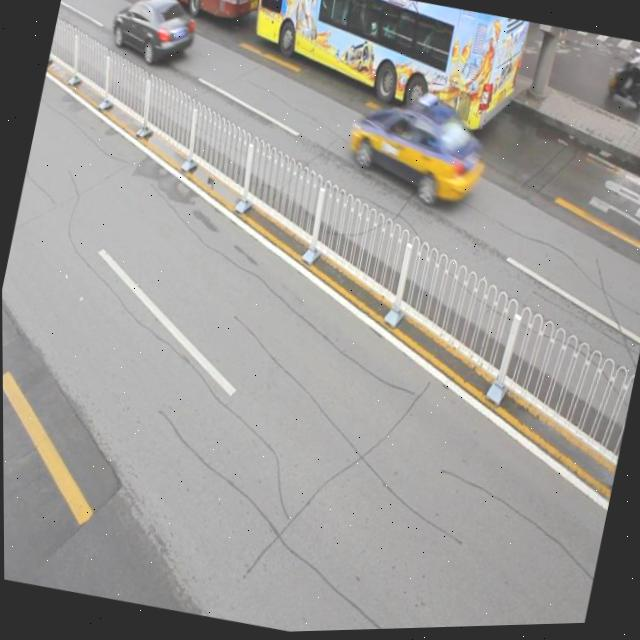car: (339, 87, 493, 217), (105, 0, 201, 72)
van: (236, 0, 527, 153), (104, 0, 264, 34)
